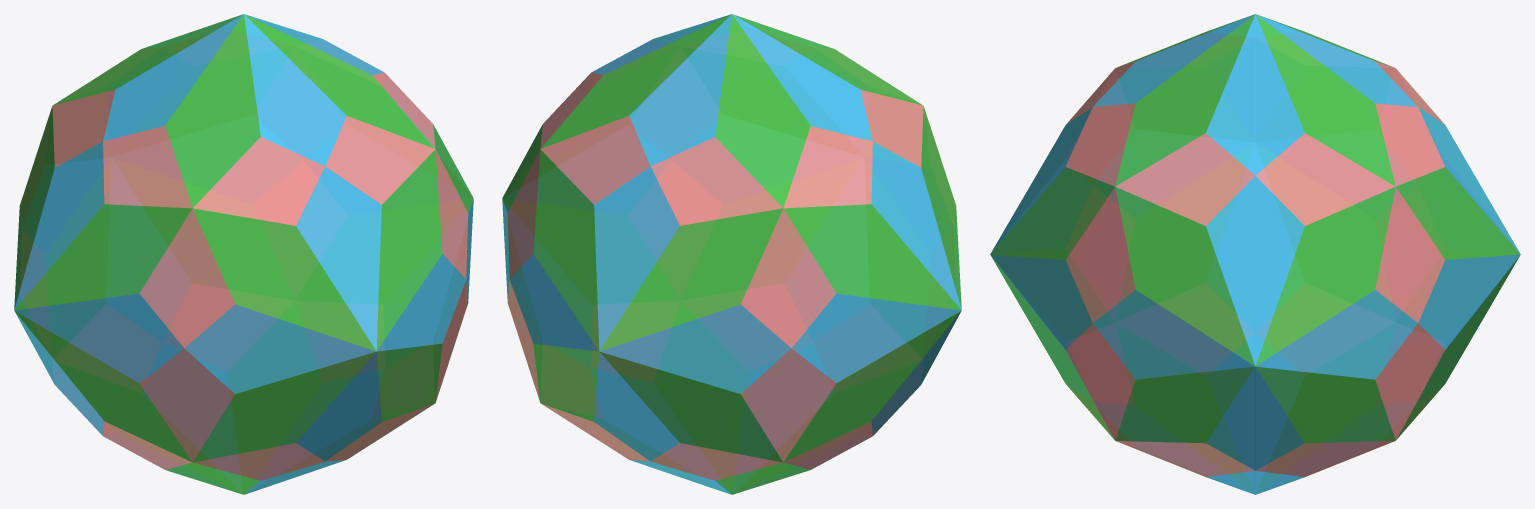
Rendered from JoinedTruncatedCuboctahedron.obj.
3 renders of one model, left to right at view 1: azimuth 30°, elevation 25°; view 2: azimuth 150°, elevation 25°; view 3: azimuth 270°, elevation 25°, orthographic.
Bounding box in the file's own units: 5.35 × 5.35 × 5.35.
